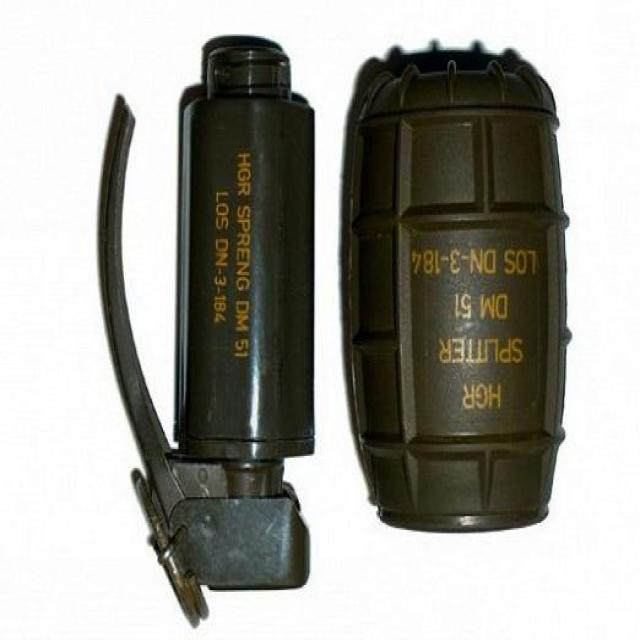grenade: (99, 46, 317, 631), (342, 59, 574, 534)
